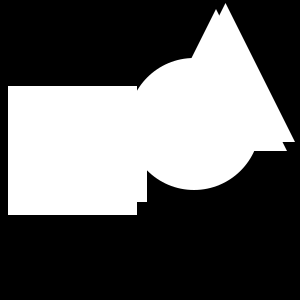circle: (8, 86, 137, 215), (61, 116, 147, 202)
rectangle: (128, 58, 260, 190)
triangle: (145, 9, 287, 151), (156, 3, 295, 142)
